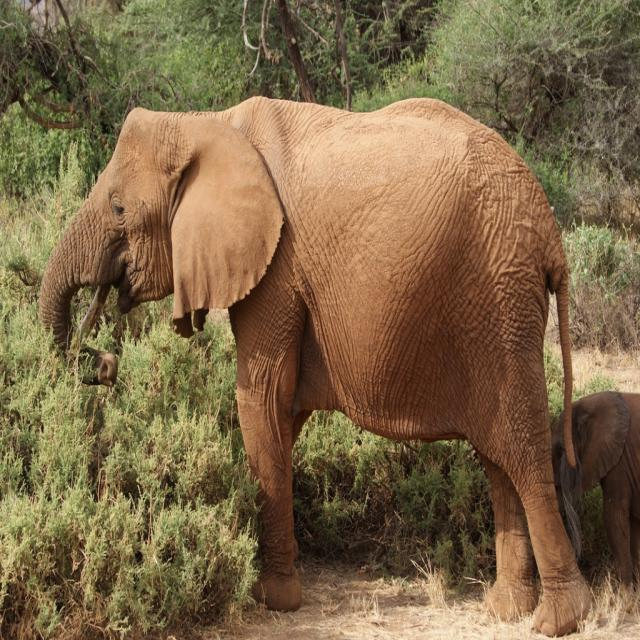elephant: (40, 95, 576, 636), (550, 396, 639, 587)
